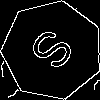S: (27, 25, 85, 80)
